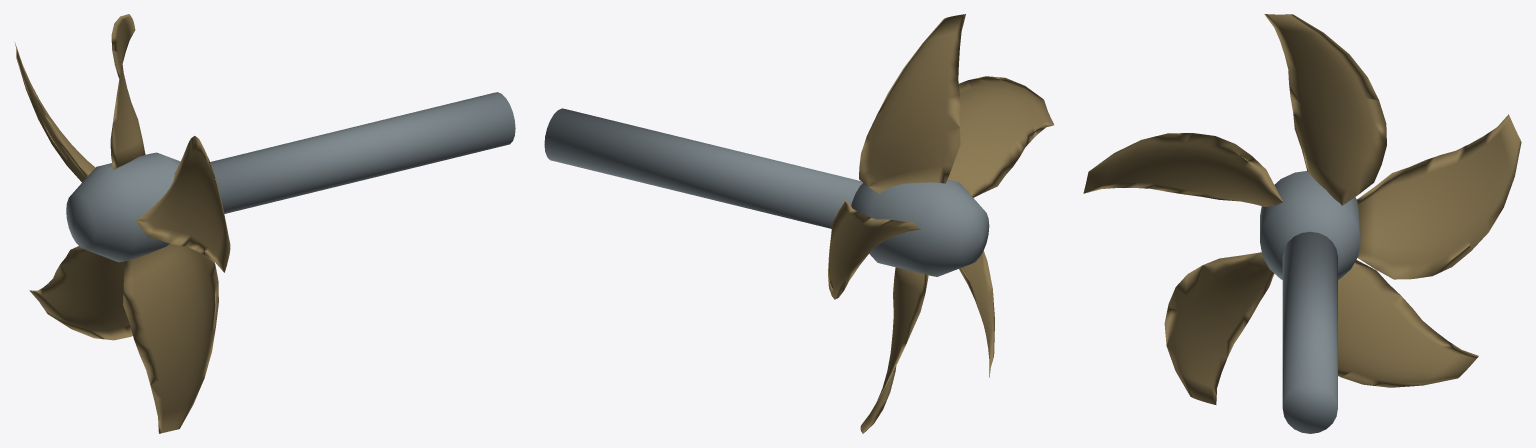
Rendered from PROP_T04_SKEWED_LOD1.fbx.
The picture shows the model from 3 angles, left to right: view 1: azimuth 30°, elevation 25°; view 2: azimuth 150°, elevation 25°; view 3: azimuth 270°, elevation 25°; orthographic projection. The views are drawn at different scales.
Parts seen in each view (by area): view 1: PROP_T04_SKEWED_LOD1_Shaft.001, PROP_T04_SKEWED_LOD1_Blade_03.001, PROP_T04_SKEWED_LOD1_Hub.001, PROP_T04_SKEWED_LOD1_Blade_02.001, PROP_T04_SKEWED_LOD1_Blade_04.001, PROP_T04_SKEWED_LOD1_Blade_01.001, PROP_T04_SKEWED_LOD1_Blade_00.001; view 2: PROP_T04_SKEWED_LOD1_Shaft.001, PROP_T04_SKEWED_LOD1_Blade_01.001, PROP_T04_SKEWED_LOD1_Hub.001, PROP_T04_SKEWED_LOD1_Blade_02.001, PROP_T04_SKEWED_LOD1_Blade_00.001, PROP_T04_SKEWED_LOD1_Blade_04.001, PROP_T04_SKEWED_LOD1_Blade_03.001; view 3: PROP_T04_SKEWED_LOD1_Blade_00.001, PROP_T04_SKEWED_LOD1_Blade_01.001, PROP_T04_SKEWED_LOD1_Blade_04.001, PROP_T04_SKEWED_LOD1_Shaft.001, PROP_T04_SKEWED_LOD1_Blade_03.001, PROP_T04_SKEWED_LOD1_Blade_02.001, PROP_T04_SKEWED_LOD1_Hub.001.
Part boxes in pixels (x1,y1,x2,y2): PROP_T04_SKEWED_LOD1_Shaft.001: (210, 92, 515, 213); PROP_T04_SKEWED_LOD1_Blade_03.001: (123, 244, 218, 433); PROP_T04_SKEWED_LOD1_Hub.001: (66, 152, 180, 262); PROP_T04_SKEWED_LOD1_Blade_02.001: (135, 136, 230, 272); PROP_T04_SKEWED_LOD1_Blade_04.001: (29, 246, 132, 340); PROP_T04_SKEWED_LOD1_Blade_01.001: (110, 14, 145, 169); PROP_T04_SKEWED_LOD1_Blade_00.001: (15, 43, 95, 182); PROP_T04_SKEWED_LOD1_Shaft.001: (544, 108, 862, 228); PROP_T04_SKEWED_LOD1_Blade_01.001: (859, 14, 965, 193); PROP_T04_SKEWED_LOD1_Hub.001: (851, 179, 989, 276); PROP_T04_SKEWED_LOD1_Blade_02.001: (947, 76, 1053, 197); PROP_T04_SKEWED_LOD1_Blade_00.001: (828, 200, 920, 299); PROP_T04_SKEWED_LOD1_Blade_04.001: (860, 267, 928, 433); PROP_T04_SKEWED_LOD1_Blade_03.001: (959, 251, 994, 377); PROP_T04_SKEWED_LOD1_Blade_00.001: (1357, 114, 1521, 279); PROP_T04_SKEWED_LOD1_Blade_01.001: (1264, 14, 1386, 205); PROP_T04_SKEWED_LOD1_Blade_04.001: (1338, 260, 1478, 387); PROP_T04_SKEWED_LOD1_Shaft.001: (1282, 231, 1337, 433); PROP_T04_SKEWED_LOD1_Blade_03.001: (1164, 252, 1274, 404); PROP_T04_SKEWED_LOD1_Blade_02.001: (1083, 133, 1283, 206); PROP_T04_SKEWED_LOD1_Hub.001: (1260, 171, 1360, 279).
Bounding box in the file's own units: 473 × 413 × 411.
